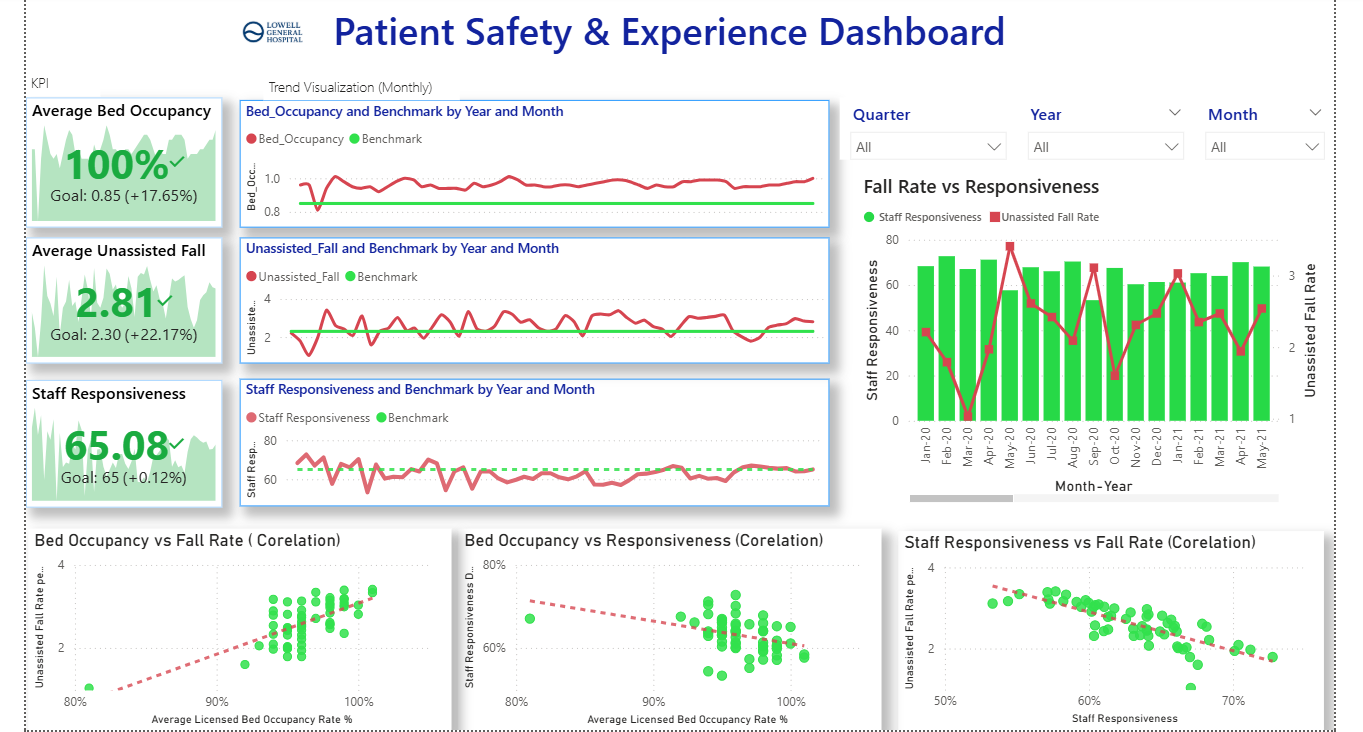

The page's visual inventory and layout, read from the dashboard file:
{"tool":"powerbi","page":{"name":"Page 1","canvas":[1280,720],"ordinal":0},"visuals":[{"type":"kpi","title":"Average Bed Occupancy ","fields":{"TrendLine":["Case Study Dataset.Month-Year"],"Goal":["Case Study Dataset.Bed_Occupancy_Benchmark"],"Indicator":["Sum(Case Study Dataset.Average Licensed Bed  Occupancy Rate)"]},"box":[0,99.9,192,127.1],"z":0},{"type":"kpi","title":"Average Unassisted Fall","fields":{"TrendLine":["Case Study Dataset.Month-Year"],"Goal":["Case Study Dataset.Benchmark for unassisted fall rates"],"Indicator":["Case Study Dataset.Avg_Unassisted_Fall"]},"box":[0,237.4,192,123.2],"z":1000},{"type":"kpi","title":"Staff Responsiveness","fields":{"TrendLine":["Case Study Dataset.Month-Year"],"Indicator":["Case Study Dataset.Avg_Staff_Responsiveness"],"Goal":["Case Study Dataset.Staff_Resp_Vs_Benchmark"]},"box":[0,376.2,192,124.5],"z":2000},{"type":"textbox","box":[255.2,4.2,1004.3,77.7],"z":3000},{"type":"image","box":[191.4,0,98.5,74.9],"z":4000},{"type":"lineChart","fields":{"Category":["Case Study Dataset.Month.Variation.Date Hierarchy.Year","Case Study Dataset.Month.Variation.Date Hierarchy.Month"],"Y":["Case Study Dataset.Avg_Staff_Responsiveness","Case Study Dataset.Staff_Resp_Vs_Benchmark"]},"box":[209.5,375.9,577,124.8],"z":5000},{"type":"lineChart","fields":{"Category":["Case Study Dataset.Month.Variation.Date Hierarchy.Year","Case Study Dataset.Month.Variation.Date Hierarchy.Month"],"Y":["Case Study Dataset.Avg_Bed_Occupancy","Case Study Dataset.Bed_Occupancy_Benchmark"]},"box":[209.5,102.6,577,124.8],"z":6000},{"type":"lineChart","fields":{"Category":["Case Study Dataset.Month.Variation.Date Hierarchy.Year","Case Study Dataset.Month.Variation.Date Hierarchy.Month"],"Y":["Case Study Dataset.Avg_Unassisted_Fall","Case Study Dataset.Benchmark for unassisted fall rates"]},"box":[209.5,237.2,577,123.5],"z":7000},{"type":"textbox","box":[232.2,75.2,192,27.2],"z":8000},{"type":"textbox","box":[0,72.6,72.6,27.2],"z":9000},{"type":"slicer","fields":{"Values":["Case Study Dataset.Month"]},"box":[1143,99.9,137.3,65.2],"z":10000},{"type":"slicer","fields":{"Values":["Case Study Dataset.Year"]},"box":[969.6,99.9,173.4,61],"z":11000},{"type":"slicer","fields":{"Values":["Case Study Dataset.Quarter"]},"box":[796.2,99.9,173.4,61],"z":12000},{"type":"scatterChart","title":" Staff Responsiveness  vs Fall Rate (Corelation)","fields":{"X":["Case Study Dataset.Staff Responsiveness Domain Top Box Score %"],"Y":["Case Study Dataset.Unassisted Fall Rate per 1,000 Patient Days"]},"box":[853.1,524.3,416.1,195.6],"z":13000},{"type":"scatterChart","title":"Bed Occupancy vs  Responsiveness  (Corelation)","fields":{"X":["Case Study Dataset.Average Licensed Bed  Occupancy Rate"],"Y":["Case Study Dataset.Staff Responsiveness Domain Top Box Score %"]},"box":[423.1,521.5,413.4,198.4],"z":14000},{"type":"scatterChart","title":"Bed Occupancy vs Fall Rate ( Corelation)","fields":{"X":["Case Study Dataset.Average Licensed Bed  Occupancy Rate"],"Y":["Case Study Dataset.Unassisted Fall Rate per 1,000 Patient Days"]},"box":[2.8,521.5,413.4,198.4],"z":15000},{"type":"lineStackedColumnComboChart","title":"Fall Rate vs Responsiveness ","fields":{"Category":["Case Study Dataset.Month-Year"],"Y":["Avg(Case Study Dataset.Staff Responsiveness Domain Top Box Score)"],"Y2":["Avg(Case Study Dataset.Unassisted Fall Rate per 1,000 Patient Days)"]},"box":[814.2,173.4,455,327.4],"z":16000}]}

Visuals, with their boxes on the page's 1280x720 design canvas (x1, y1, x2, y2). These are canvas units, not pixel positions in the 1363x732 screenshot, which may show the page scaled, cropped or inside an application window:
"Average Bed Occupancy " kpi: <box>0,100,192,227</box>
"Average Unassisted Fall" kpi: <box>0,237,192,361</box>
"Staff Responsiveness" kpi: <box>0,376,192,501</box>
textbox: <box>255,4,1260,82</box>
image: <box>191,0,290,75</box>
lineChart - Case Study Dataset.Month.Variation.Date Hierarchy.Year x Case Study Dataset.Month.Variation.Date Hierarchy.Month: <box>210,376,786,501</box>
lineChart - Case Study Dataset.Month.Variation.Date Hierarchy.Year x Case Study Dataset.Month.Variation.Date Hierarchy.Month: <box>210,103,786,227</box>
lineChart - Case Study Dataset.Month.Variation.Date Hierarchy.Year x Case Study Dataset.Month.Variation.Date Hierarchy.Month: <box>210,237,786,361</box>
textbox: <box>232,75,424,102</box>
textbox: <box>0,73,73,100</box>
slicer - Case Study Dataset.Month: <box>1143,100,1280,165</box>
slicer - Case Study Dataset.Year: <box>970,100,1143,161</box>
slicer - Case Study Dataset.Quarter: <box>796,100,970,161</box>
" Staff Responsiveness  vs Fall Rate (Corelation)" scatterChart: <box>853,524,1269,720</box>
"Bed Occupancy vs  Responsiveness  (Corelation)" scatterChart: <box>423,522,836,720</box>
"Bed Occupancy vs Fall Rate ( Corelation)" scatterChart: <box>3,522,416,720</box>
"Fall Rate vs Responsiveness " lineStackedColumnComboChart: <box>814,173,1269,501</box>
